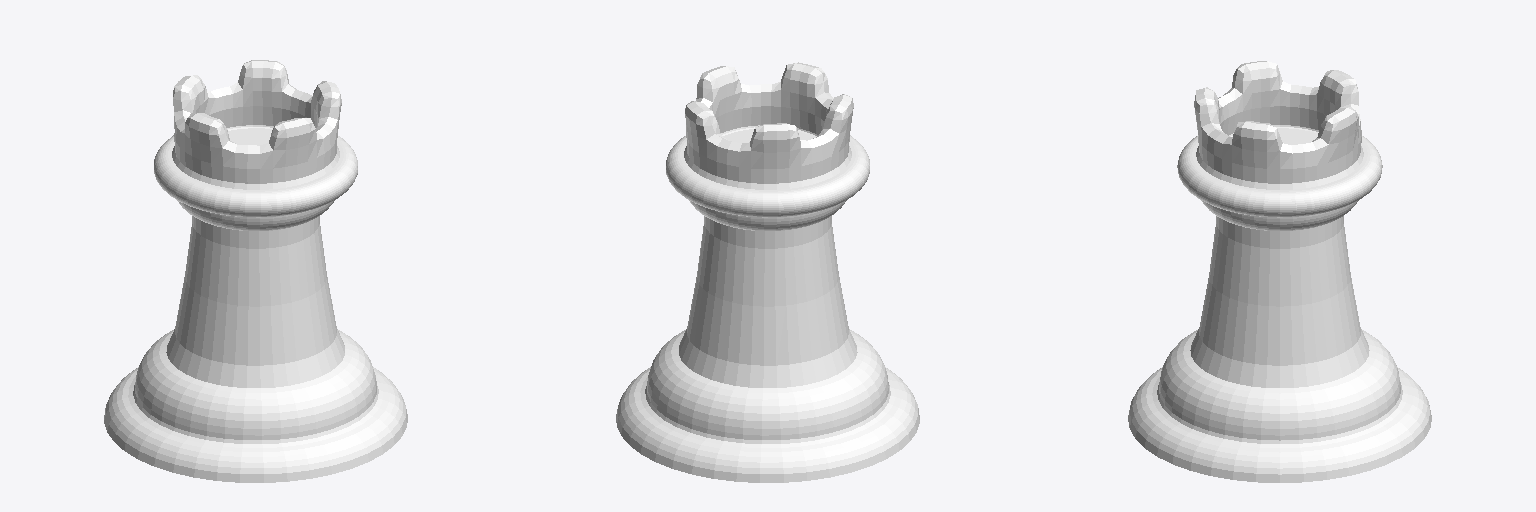
The model's file is whitewall.obj.
The picture shows the model from 3 angles: view 1: azimuth 30°, elevation 25°; view 2: azimuth 150°, elevation 25°; view 3: azimuth 270°, elevation 25°; orthographic projection.
Parts seen in each view (by area): view 1: white_rook2_Mesh.016; view 2: white_rook2_Mesh.016; view 3: white_rook2_Mesh.016.
Boxes of the visible parts, x1=… form: white_rook2_Mesh.016: x1=104, y1=60, x2=407, y2=482; white_rook2_Mesh.016: x1=616, y1=62, x2=919, y2=482; white_rook2_Mesh.016: x1=1128, y1=61, x2=1431, y2=482.
Size of the model in its own units: 0.1645 by 0.1944 by 0.1645.